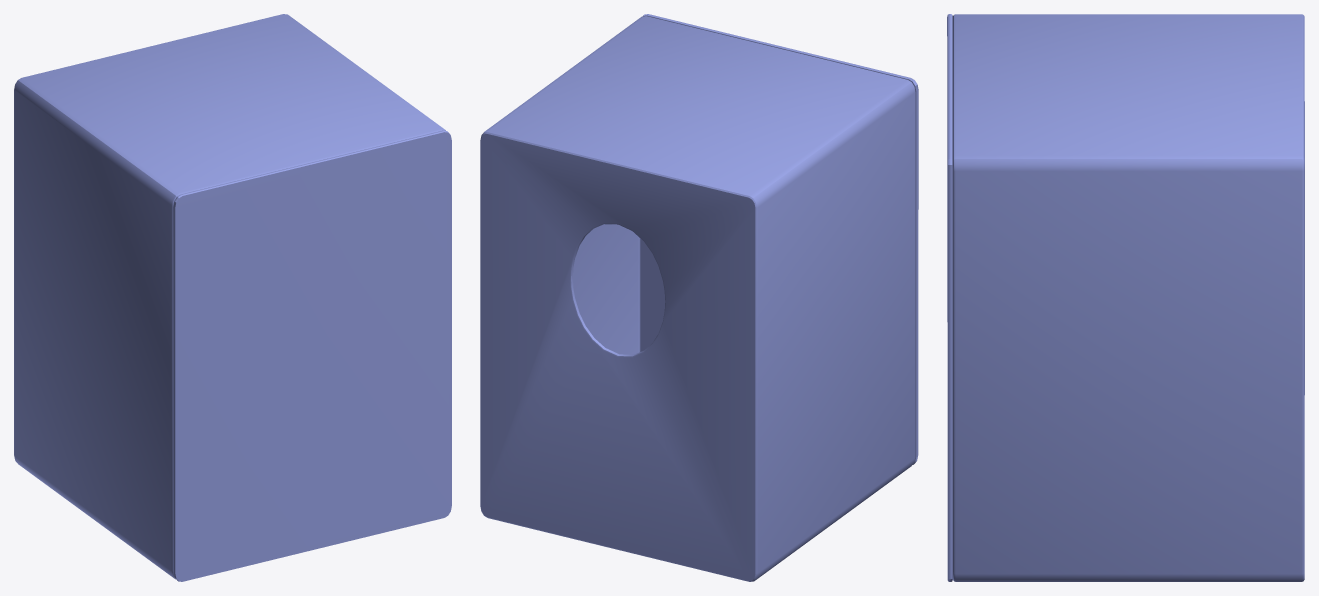
File: cajon.glb
3 views of the same model, side by side, from view 1: azimuth 30°, elevation 25°; view 2: azimuth 150°, elevation 25°; view 3: azimuth 270°, elevation 25° (orthographic). The views are drawn at different scales.
Visible parts, largest first — view 1: hitter, cajon; view 2: cajon, hitter; view 3: cajon, hitter.
Boxes of the visible parts, left/top/right/bottom form: hitter: left=173, top=130, right=451, bottom=581; cajon: left=14, top=14, right=445, bottom=579; cajon: left=480, top=16, right=915, bottom=581; hitter: left=640, top=14, right=918, bottom=464; cajon: left=953, top=14, right=1304, bottom=581; hitter: left=947, top=14, right=952, bottom=581.
Size of the model in its own units: 0.9487 by 1.26 by 0.9619.
